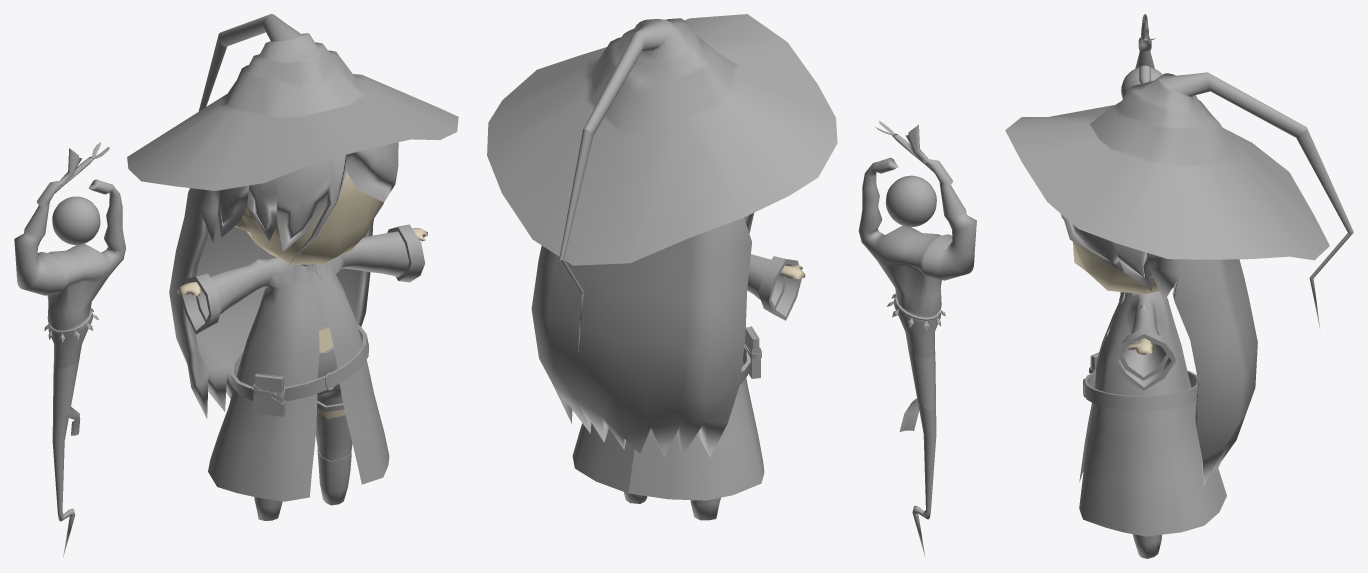
Rendered from tes.fbx.
The picture shows the model from 3 angles, left to right: view 1: azimuth 30°, elevation 25°; view 2: azimuth 150°, elevation 25°; view 3: azimuth 270°, elevation 25°; orthographic projection. The views are drawn at different scales.
Visible parts, largest first — view 1: cloth, hat, hear, polySurface12, body, belt, pSphere1, L_socks, L_boots, polySurface1, botom, bookstand (+1 smaller); view 2: hat, hear, cloth, polySurface12, pSphere1, polySurface1; view 3: hat, cloth, hear, body, belt, polySurface12, L_boots.
Boxes of the visible parts, box(x1,y1,x2,y2) form: cloth: box(180, 224, 425, 501); hat: box(127, 14, 458, 190); hear: box(169, 142, 398, 418); polySurface12: box(14, 148, 125, 557); body: box(177, 172, 428, 418); belt: box(231, 324, 368, 401); pSphere1: box(52, 196, 100, 244); L_socks: box(315, 412, 352, 461); L_boots: box(317, 449, 351, 505); polySurface1: box(53, 357, 80, 435); botom: box(317, 347, 344, 411); bookstand: box(253, 383, 285, 416); hat: box(487, 14, 837, 351); hear: box(531, 213, 753, 456); cloth: box(572, 254, 801, 500); polySurface12: box(858, 125, 976, 556); pSphere1: box(885, 175, 936, 226); polySurface1: box(899, 346, 935, 431); hat: box(1005, 72, 1353, 329); cloth: box(1079, 291, 1226, 536); hear: box(1061, 214, 1257, 485); body: box(1072, 241, 1174, 354); belt: box(1084, 370, 1197, 411); polySurface12: box(1135, 14, 1154, 83); L_boots: box(1133, 534, 1161, 558).
Bounding box in the file's own units: 110 × 114 × 77.47.
